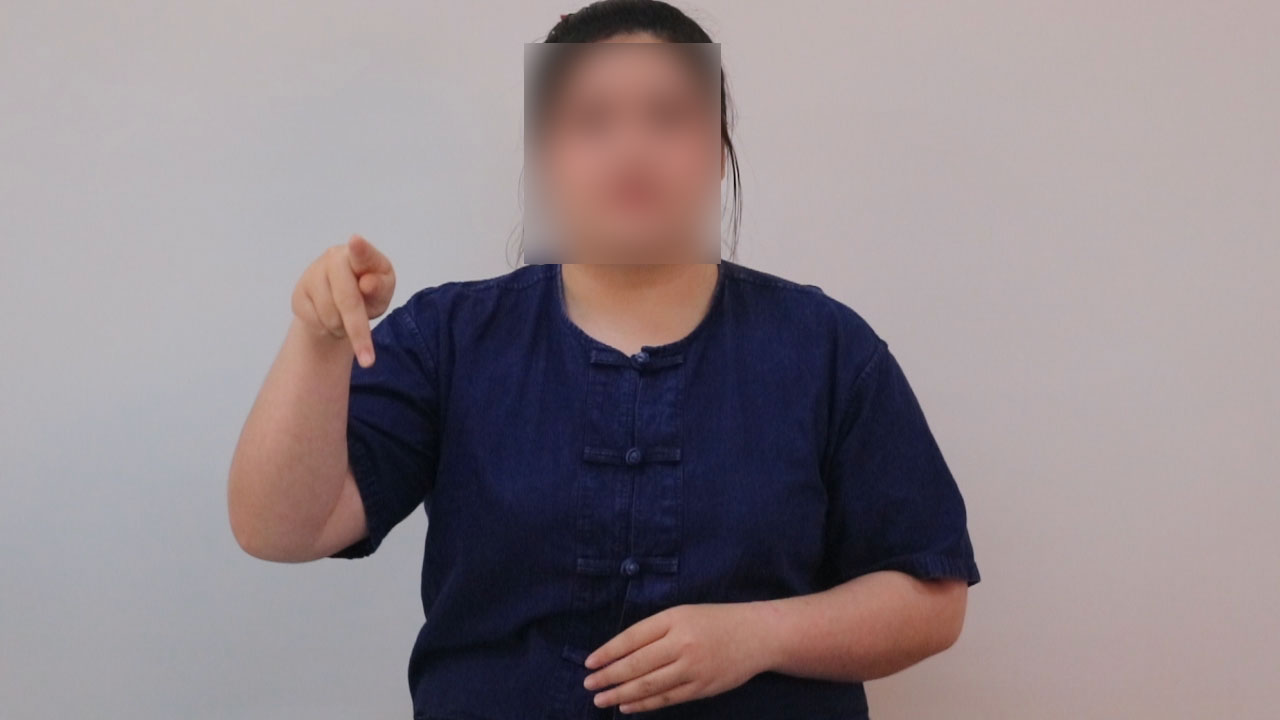por: (282, 222, 412, 376)
